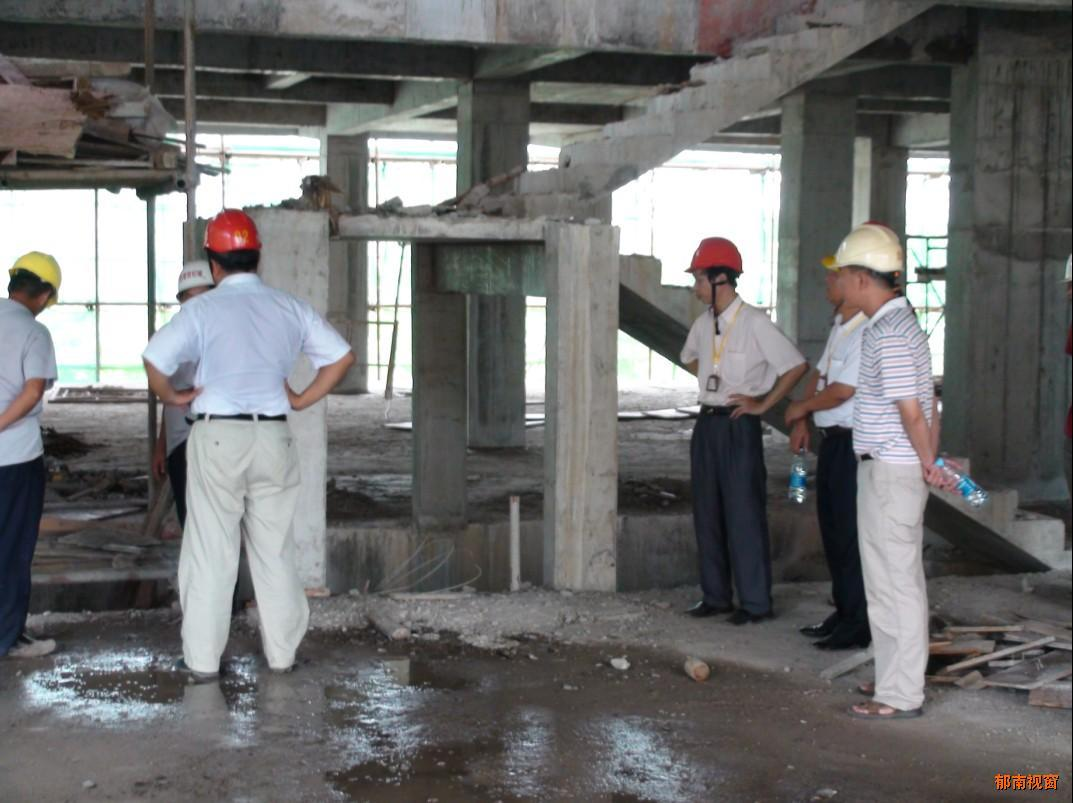helmet: (836, 227, 902, 279), (200, 209, 259, 267), (11, 249, 70, 305), (690, 232, 750, 279), (174, 262, 215, 297)
